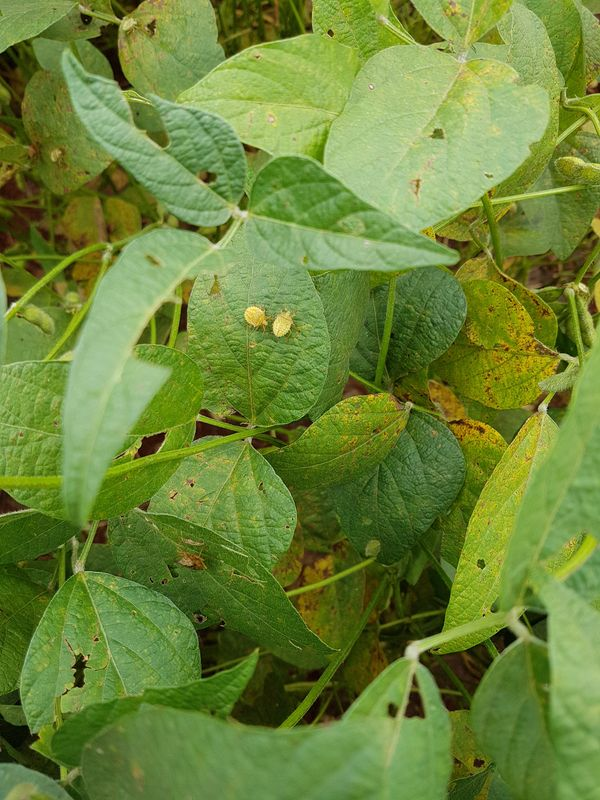Euschistus_heros_adulto: (168, 539, 212, 580)
Euschistus_heros_ninfa: (270, 305, 304, 342), (239, 300, 270, 334)
